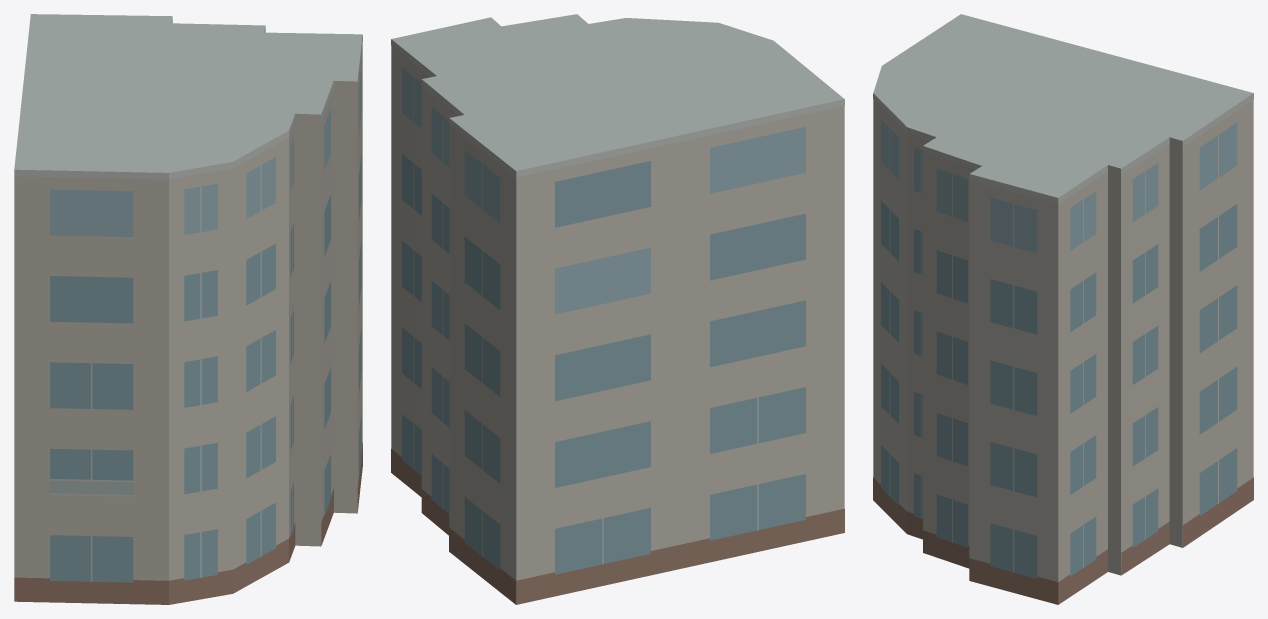
The model's file is survey-upis-32971413.glb.
3 views of the same model, side by side, from view 1: azimuth 30°, elevation 25°; view 2: azimuth 150°, elevation 25°; view 3: azimuth 270°, elevation 25° (orthographic). The views are drawn at different scales.
Parts seen in each view (by area): view 1: survey-upis-32971413.tmp; view 2: survey-upis-32971413.tmp; view 3: survey-upis-32971413.tmp.
Part boxes in pixels (bbox=[...]): survey-upis-32971413.tmp: bbox=[14, 14, 362, 604]; survey-upis-32971413.tmp: bbox=[391, 14, 844, 604]; survey-upis-32971413.tmp: bbox=[873, 14, 1253, 604].
Size of the model in its own units: 15.52 by 16 by 13.57.
